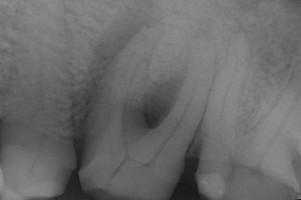Endo-Periodontal Lesion: (142, 71, 186, 128)
Furcation Involvement: (86, 0, 160, 100)
